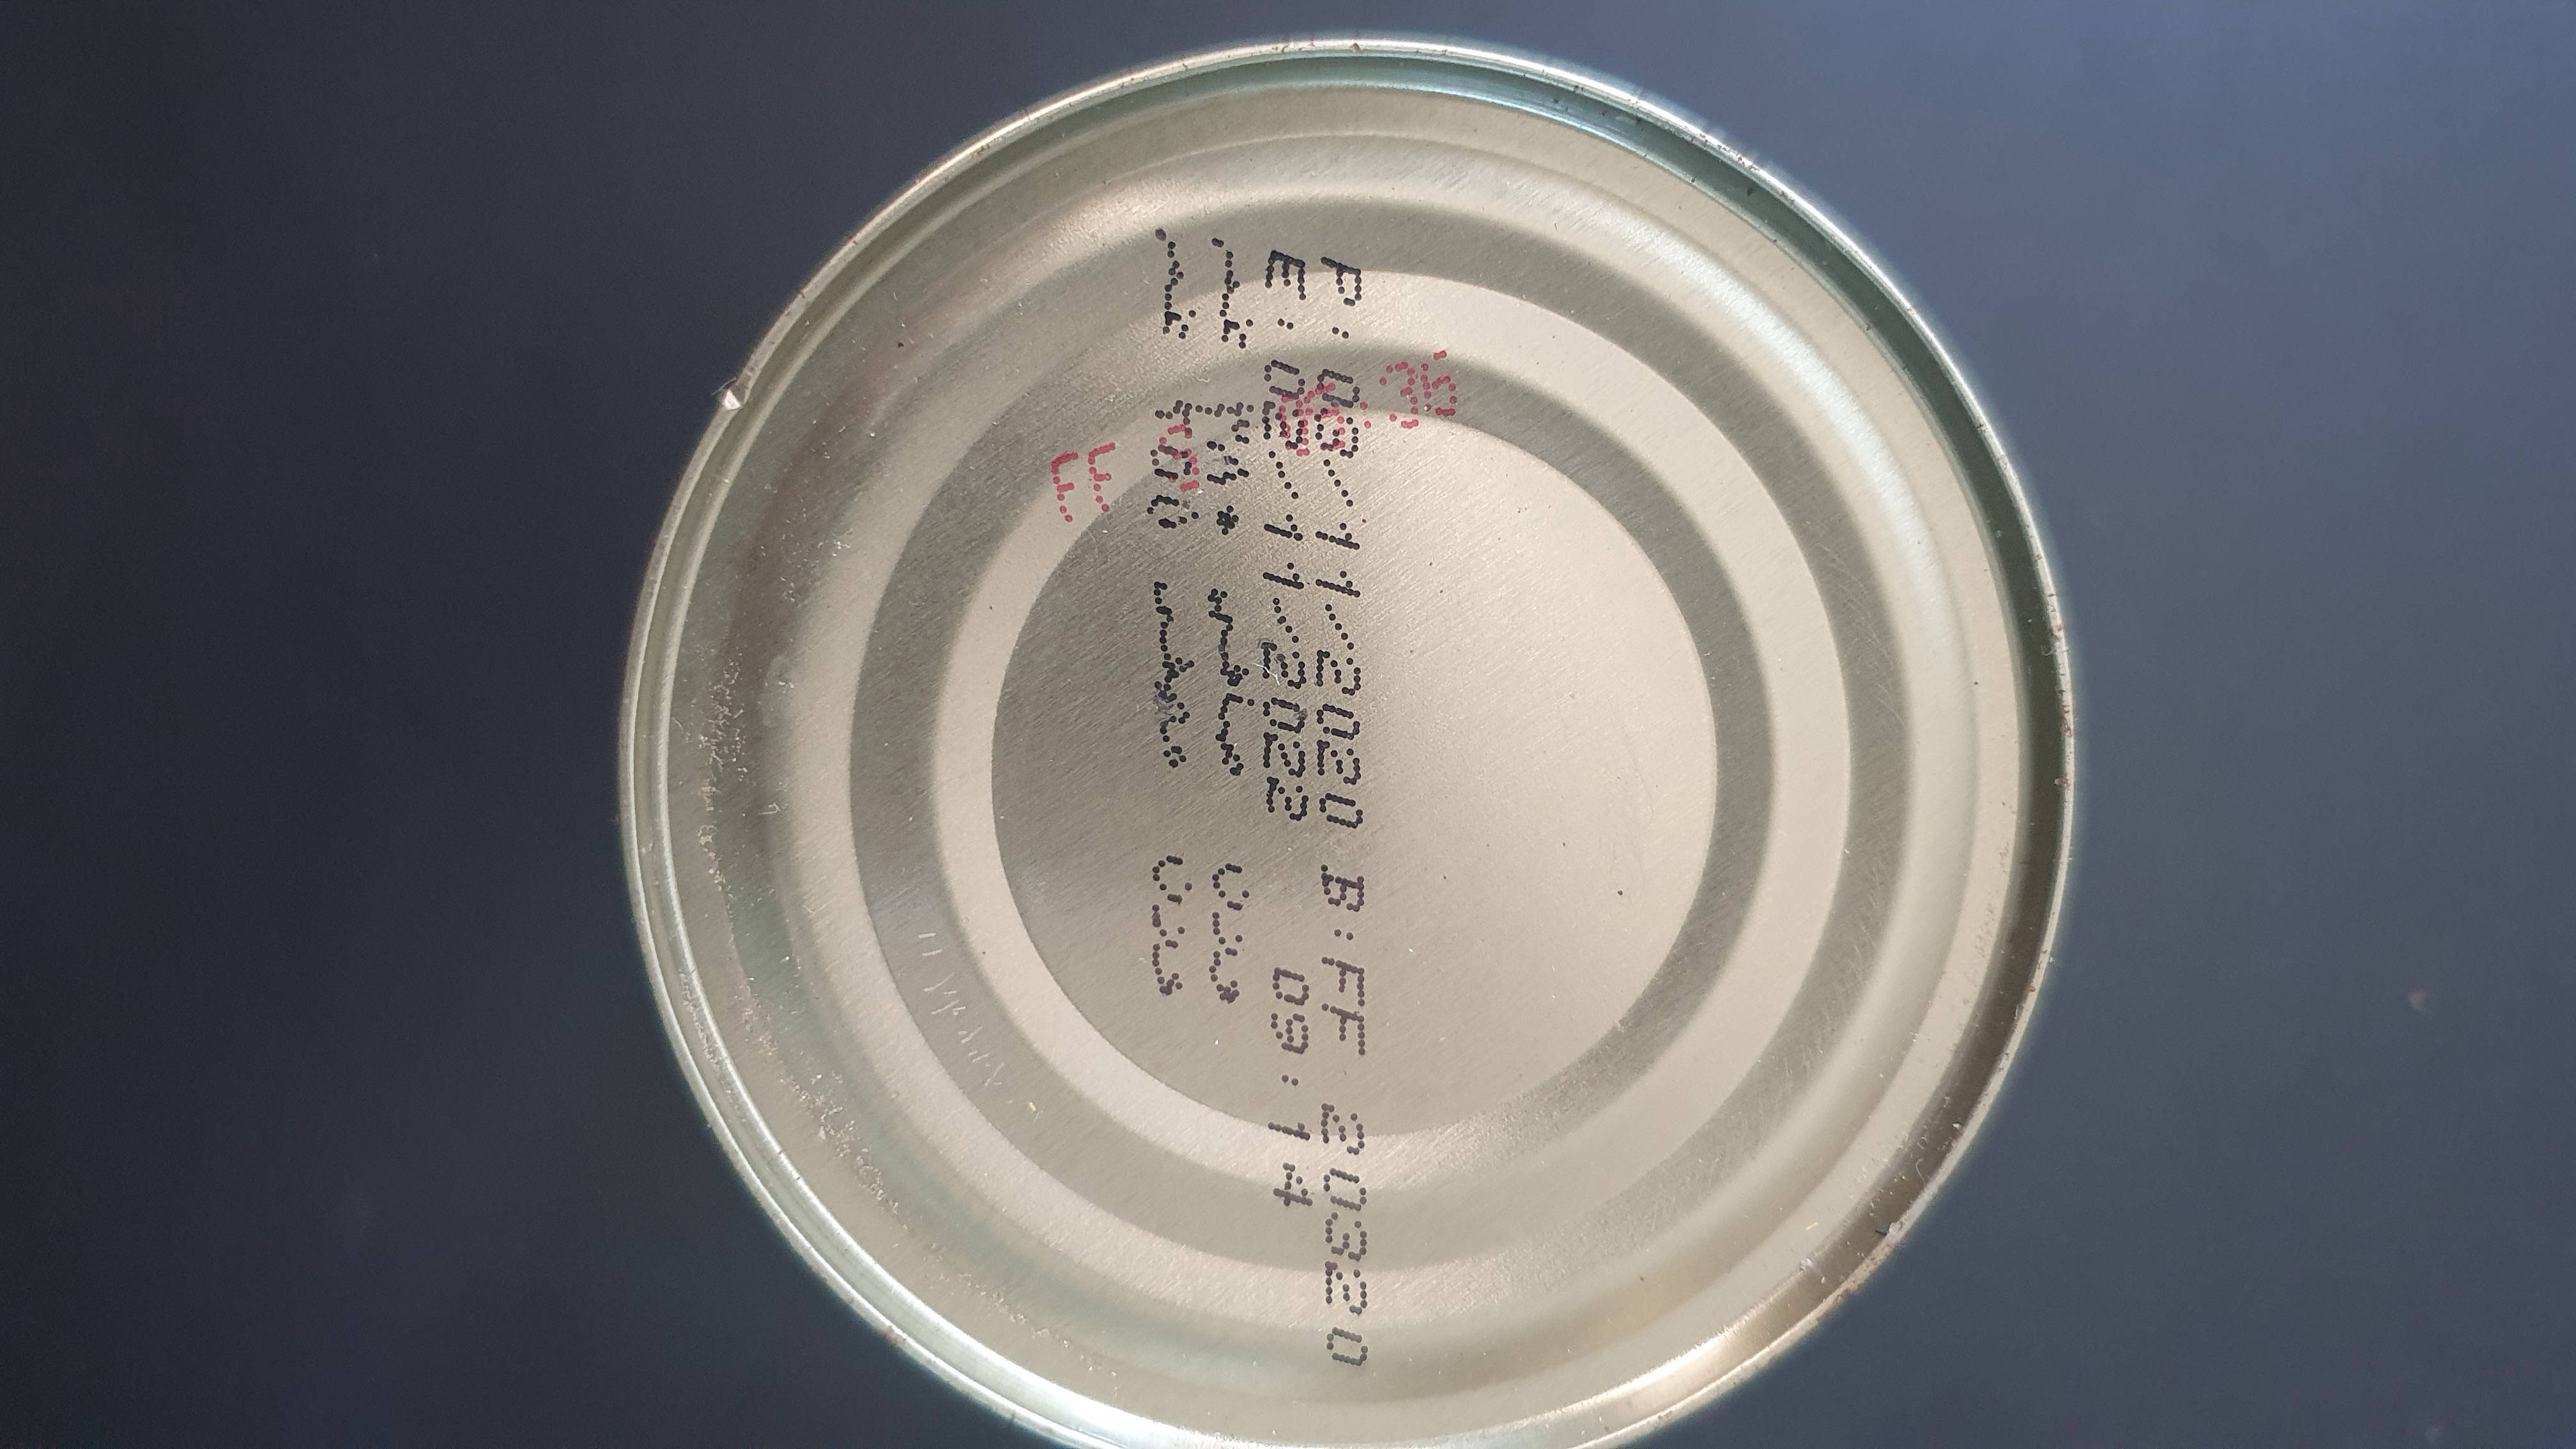metal: (570, 5, 2114, 1433)
